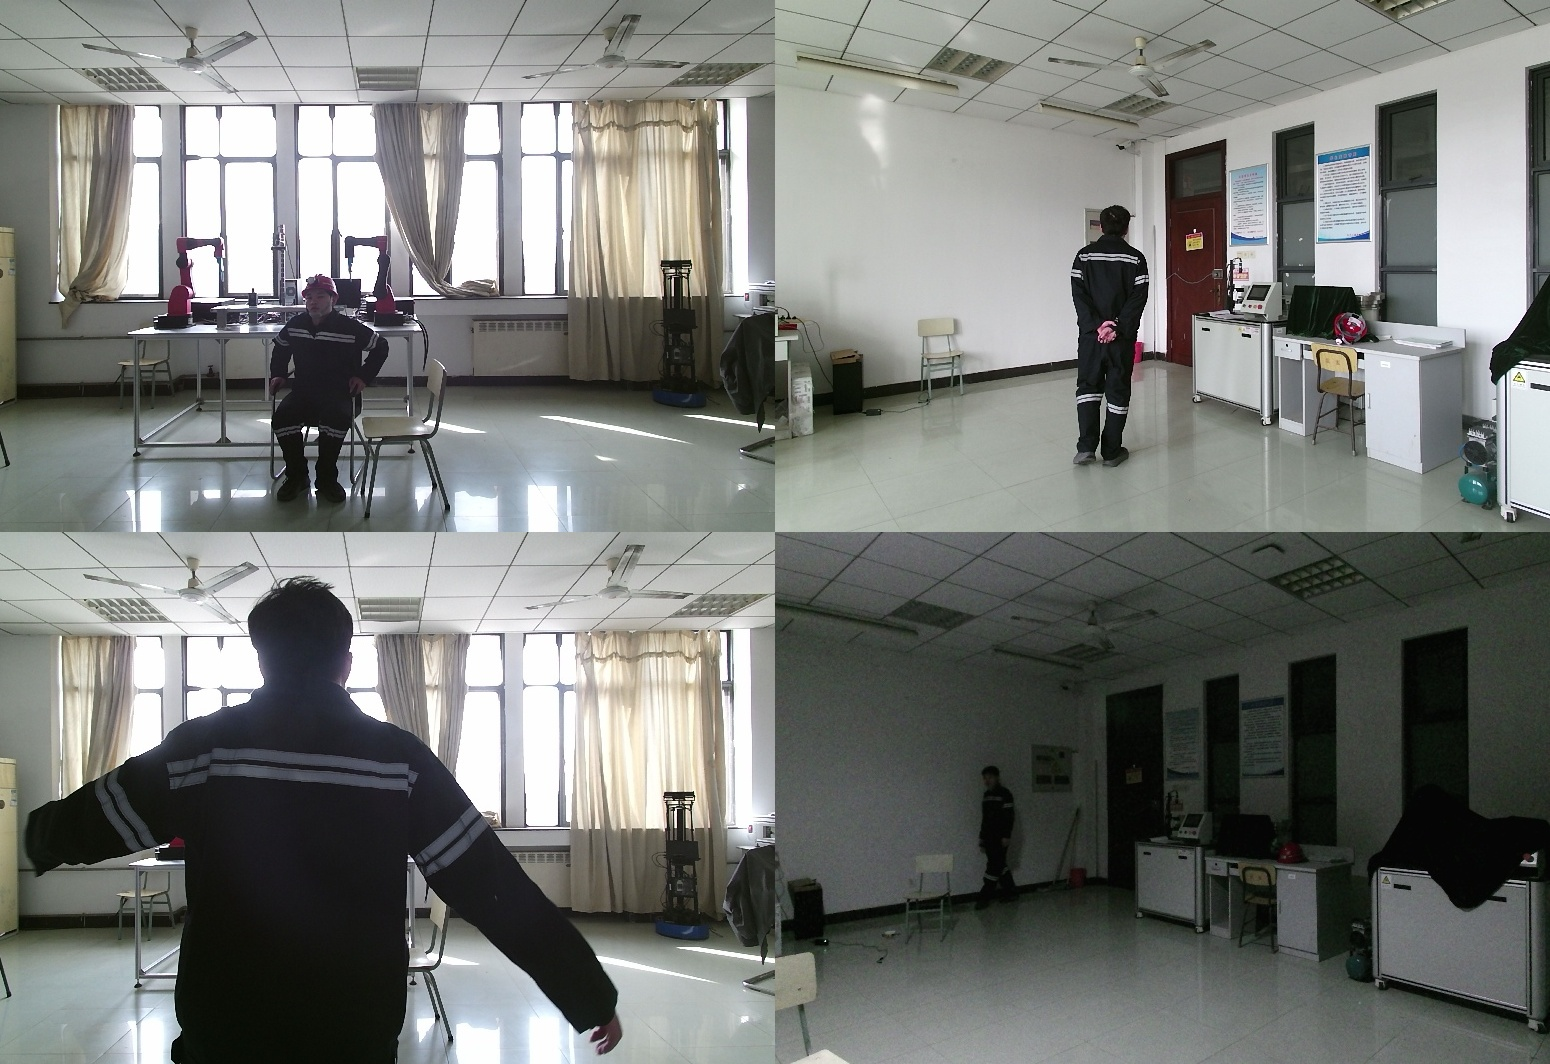person: (28, 583, 618, 1064), (268, 276, 395, 503), (1065, 205, 1155, 473), (976, 768, 1022, 910)
